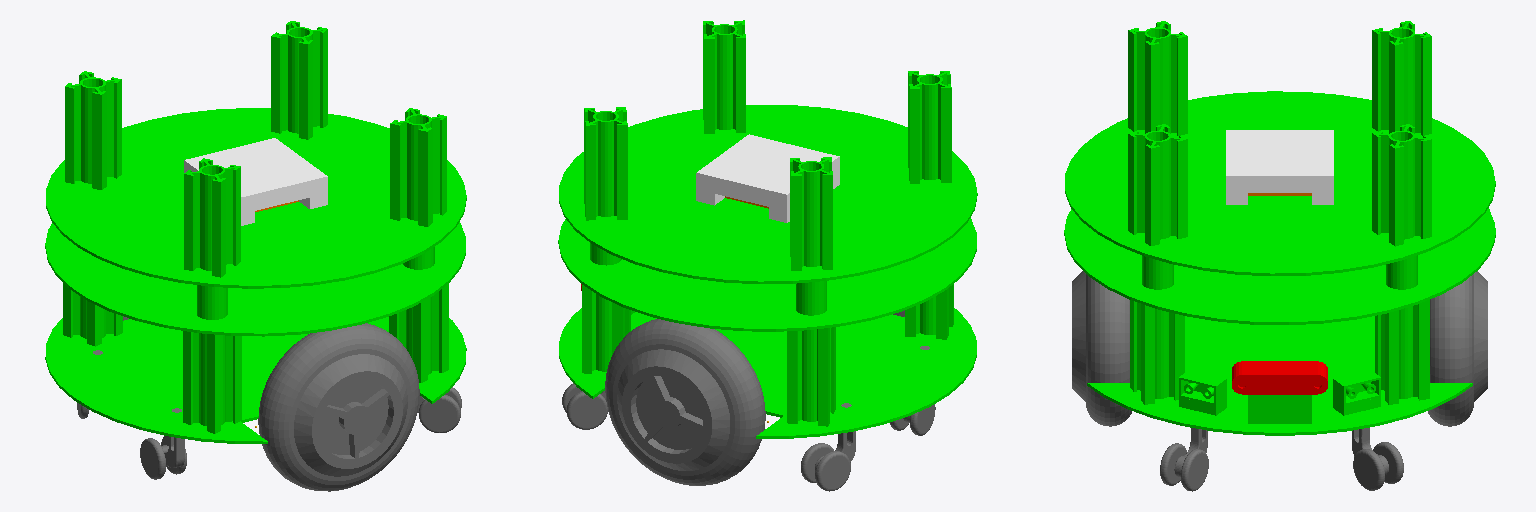
robot.urdf — jason_robot:
<?xml version="1.0" encoding="utf-8"?>
<robot name="jason_robot">

  <!-- base_footprint:to aviod the robot model drop into groud -->
  <link name="base_footprint_link"> 
    <visual>
      <origin rpy = "0.0 0.0 0.0" xyz="0.0 0.0 0.0"/>
      <geometry>
        <sphere radius="0.001"/>
      </geometry>
    </visual>  
  </link>
  <joint name="base_footprint_joint" type="fixed">
    <parent link="base_footprint_link"/>
    <child link="base_link"/>
    <origin xyz = "0.0 0.0 0.0" rpy = "0.0 0.0 0.0"/>
  </joint>

                                        <!-- body -->
  <!-- base -->
  <link name="base_link">
    <inertial>
      <origin xyz="0.00000000 0.10108756 0.00623713" rpy="0 0 0" />
      <mass value="1.82483140" />
      <inertia ixx="0.03024727" ixy="0.00000000" ixz="0.00000000" 
               iyy="0.03975910" iyz="-0.00096624" izz="0.02932123"/>
    </inertial>
    <visual>
      <origin xyz="0 0 0" rpy="0 0 0"/>
      <geometry>
        <mesh filename="package://jason_description/meshes/base_link.STL"/>
      </geometry>
      <material name="green">
        <color rgba="0 1 0 1"/> <!-- Green color -->
      </material>
    </visual>
    <collision>
      <origin xyz="0 0 0" rpy="0 0 0" />
      <geometry>
        <mesh filename="package://jason_description/meshes/base_link.STL"/>
      </geometry>
    </collision>
  </link>

  <!-- leftwheel -->
  <link name="leftwheel_link">
    <inertial>
      <origin xyz="0.025015 1.5613E-17 3.3827E-17" rpy="0 0 0"/>
      <mass value="0.97002"/>
      <inertia ixx="0.0031479" ixy="-2.0133E-20" ixz="-3.4297E-20" 
               iyy="0.0017677" iyz="-1.0842E-19" izz="0.0017677"/>
    </inertial>
    <visual>
      <origin xyz="0 0 0" rpy="0 0 0"/>
      <geometry>
        <mesh filename="package://jason_description/meshes/leftwheel.STL"/>
      </geometry>
      <material name="Grey">
        <color rgba="0.5 0.5 0.5 1"/>
      </material>
    </visual>
    <collision>
      <origin xyz="0 0 0" rpy="0 0 0"/>
      <geometry>
        <mesh filename="package://jason_description/meshes/leftwheel.STL"/>
      </geometry>
    </collision>
  </link>
  <joint name="leftwheel_joint" type="continuous">
    <origin xyz="0 0.135 0.085" rpy="1.9846 0 1.5708"/>
    <parent link="base_link"/>
    <child link="leftwheel_link"/>
    <axis xyz="1 0 0"/>
    <limit effort="100" velocity="100"/>
  </joint>
  <transmission name="leftwheel_joint_trans">
    <type>transmission_interface/SimpleTransmission</type>
    <joint name="leftwheel_joint">
        <hardwareInterface>hardware_interface/VelocityJointInterface</hardwareInterface>
    </joint>
    <actuator name="leftwheel_joint_motor">
        <hardwareInterface>hardware_interface/VelocityJointInterface</hardwareInterface>
        <mechanicalReduction>1</mechanicalReduction>
    </actuator>
</transmission>

  <!-- rightwheel -->
  <link name="rightwheel_link">
    <inertial>
      <origin xyz="0.0250147602908531 5.20417042793042E-18 0" rpy="0 0 0" />
      <mass value="0.970024552759726" />
      <inertia ixx="0.0031479187861595" ixy="5.18498633207202E-19" ixz="-4.35193244517078E-19" 
               iyy="0.00176772418850793" iyz="1.62630325872826E-19" izz="0.00176772418850793" />
    </inertial>
    <visual>
      <origin xyz="0 0 0" rpy="0 0 0" />
      <geometry>
        <mesh filename="package://jason_description/meshes/rightwheel.STL" />
      </geometry>
      <material name="Grey">
        <color rgba="0.5 0.5 0.5 1" />
      </material>
    </visual>
    <collision>
      <origin xyz="0 0 0" rpy="0 0 0" />
      <geometry>
        <mesh filename="package://jason_description/meshes/rightwheel.STL" />
      </geometry>
    </collision>
  </link>
  <joint name="rightwheel_joint" type="continuous">
    <origin xyz="0 -0.135 0.085" rpy="0.5198 0 -1.5708" />
    <parent link="base_link" />
    <child link="rightwheel_link" />
    <axis xyz="-1 0 0" />
    <limit effort="100" velocity="100" />
  </joint>
  <transmission name="rightwheel_joint_trans">
  <type>transmission_interface/SimpleTransmission</type>
  <joint name="rightwheel_joint">
      <hardwareInterface>hardware_interface/VelocityJointInterface</hardwareInterface>
  </joint>
  <actuator name="rightwheel_joint_motor">
      <hardwareInterface>hardware_interface/VelocityJointInterface</hardwareInterface>
      <mechanicalReduction>1</mechanicalReduction>
  </actuator>
</transmission>

  <!-- casterhandle1 -->
  <link name="casterhandle1_link">
    <inertial>
      <origin xyz="0 0.0297669849189359 -0.00695284912191863" rpy="0 0 0" />
      <mass value="0.0107364974282701" />
      <inertia ixx="5.80576146335529E-06" ixy="-2.43521972335611E-21" ixz="-1.48230765769503E-21"
               iyy="1.45396246086487E-06" iyz="-1.41313210015193E-06" izz="4.55928007631684E-06" />
    </inertial>
    <visual>
      <origin xyz="0 0 0" rpy="0 0 0" />
      <geometry>
        <mesh filename="package://jason_description/meshes/casterhandle1.STL" />
      </geometry>
      <material name="Grey">
        <color rgba="0.5 0.5 0.5 1" />
      </material>
    </visual>
    <collision>
      <origin xyz="0 0 0" rpy="0 0 0" />
      <geometry>
        <mesh filename="package://jason_description/meshes/casterhandle1.STL" />
      </geometry>
    </collision>
  </link>
  <joint name="casterhandle1_joint" type="continuous">
    <origin xyz="0.1299 -0.075 0.01" rpy="1.5708 0 -2.1443" />
    <parent link="base_link" />
    <child link="casterhandle1_link" />
    <axis xyz="0 -1 0" />
    <limit effort="100" velocity="100" />
  </joint>

  <!-- caster1 -->
  <link name="caster1_link">
    <inertial>
      <origin xyz="0 0 0" rpy="0 0 0" />
      <mass value="0.0203459824312811" />
      <inertia ixx="3.68448896895517E-06" ixy="2.38228016415272E-22" ixz="2.01170324972896E-21"
               iyy="4.49587566651826E-06" iyz="-1.05879118406788E-22" izz="4.49587566651827E-06" />
    </inertial>
    <visual>
      <origin xyz="0 0 0" rpy="0 0 0" />
      <geometry>
        <mesh filename="package://jason_description/meshes/caster1.STL" />
      </geometry>
      <material name="Grey">
        <color rgba="0.5 0.5 0.5 1" />
      </material>
    </visual>
    <collision>
      <origin xyz="0 0 0" rpy="0 0 0" />
      <geometry>
        <mesh filename="package://jason_description/meshes/caster1.STL" />
      </geometry>
    </collision>
  </link>
  <joint name="caster1_joint" type="continuous">
    <origin xyz="0 0.01 -0.025" rpy="-0.21648 0 -3.1416" />
    <parent link="casterhandle1_link" />
    <child link="caster1_link" />
    <axis xyz="1 0 0" />
    <limit effort="100" velocity="100" />
  </joint>

  <!-- casterhandle2 -->
  <link name="casterhandle2_link">
    <inertial>
      <origin xyz="2.08166817117217E-17 0.0297669849189359 -0.00695284912191868" rpy="0 0 0" />
      <mass value="0.0107364974282701" />
      <inertia ixx="5.80576146335528E-06" ixy="-5.29395592033938E-22" ixz="-1.27054942088145E-21"
               iyy="1.45396246086487E-06" iyz="-1.41313210015192E-06" izz="4.55928007631684E-06" />
    </inertial>
    <visual>
      <origin xyz="0 0 0" rpy="0 0 0" />
      <geometry>
        <mesh filename="package://jason_description/meshes/casterhandle2.STL" />
      </geometry>
      <material name="Grey">
        <color rgba="0.5 0.5 0.5 1" />
      </material>
    </visual>
    <collision>
      <origin xyz="0 0 0" rpy="0 0 0" />
      <geometry>
        <mesh filename="package://jason_description/meshes/casterhandle2.STL" />
      </geometry>
    </collision>
  </link>
  <joint name="casterhandle2_joint" type="continuous">
    <origin xyz="0.1299 0.075 0.01" rpy="1.5708 0 -0.85675" />
    <parent link="base_link" />
    <child link="casterhandle2_link" />
    <axis xyz="0 -1 0" />
    <limit effort="100" velocity="100" />
  </joint>

  <!-- caster2 -->
  <link name="caster2_link">
    <inertial>
      <origin xyz="5.55111512312578E-17 0 0" rpy="0 0 0" />
      <mass value="0.0203459824312811" />
      <inertia ixx="3.68448896895516E-06" ixy="-1.05879118406788E-22" ixz="-2.64697796016969E-23" 
               iyy="4.49587566651826E-06" iyz="-1.58818677610181E-22" izz="4.49587566651826E-06" />
    </inertial>
    <visual>
      <origin xyz="0 0 0" rpy="0 0 0" />
      <geometry>
        <mesh filename="package://jason_description/meshes/caster2.STL" />
      </geometry>
      <material name="Grey">
        <color rgba="0.5 0.5 0.5 1" />
      </material>
    </visual>
    <collision>
      <origin xyz="0 0 0" rpy="0 0 0" />
      <geometry>
        <mesh filename="package://jason_description/meshes/caster2.STL" />
      </geometry>
    </collision>
  </link>
  <joint name="caster2_joint" type="continuous">
    <origin xyz="0 0.01 -0.025" rpy="-1.4513 0 0" />
    <parent link="casterhandle2_link" />
    <child link="caster2_link" />
    <axis xyz="1 0 0" />
    <limit effort="100" velocity="100" />
  </joint>

  <!-- casterhandle3 -->
  <link name="casterhandle3_link">
    <inertial>
      <origin xyz="0 0.0297669849189359 -0.00695284912191872" rpy="0 0 0" />
      <mass value="0.0107364974282701" />
      <inertia ixx="5.80576146335528E-06" ixy="-3.17637355220363E-22" ixz="-3.17637355220363E-22"
               iyy="1.45396246086487E-06" iyz="-1.41313210015192E-06" izz="4.55928007631684E-06" />
    </inertial>
    <visual>
      <origin xyz="0 0 0" rpy="0 0 0" />
      <geometry>
        <mesh filename="package://jason_description/meshes/casterhandle3.STL" />
      </geometry>
      <material name="Grey">
        <color rgba="0.5 0.5 0.5 1" />
      </material>
    </visual>
    <collision>
      <origin xyz="0 0 0" rpy="0 0 0" />
      <geometry>
        <mesh filename="package://jason_description/meshes/casterhandle3.STL" />
      </geometry>
    </collision>
  </link>
  <joint name="casterhandle3_joint" type="continuous">
    <origin xyz="-0.1299 0.075 0.01" rpy="1.5708 0 -0.39591" />
    <parent link="base_link" />
    <child link="casterhandle3_link" />
    <axis xyz="0 -1 0" />
    <limit effort="100" velocity="100" />
  </joint>

  <!-- caster3 -->
  <link name="caster3_link">
    <inertial>
      <origin xyz="1.38777878078145E-16 0 -6.93889390390723E-18" rpy="0 0 0" />
      <mass value="0.0203459824312811" />
      <inertia ixx="3.68448896895516E-06" ixy="-1.58818677610181E-22" ixz="1.27054942088145E-21"
               iyy="4.49587566651827E-06" iyz="-1.32348898008484E-22" izz="4.49587566651827E-06" />
    </inertial>
    <visual>
      <origin xyz="0 0 0" rpy="0 0 0" />
      <geometry>
        <mesh filename="package://jason_description/meshes/caster3.STL" />
      </geometry>
      <material name="Grey">
        <color rgba="0.5 0.5 0.5 1" />
      </material>
    </visual>
    <collision>
      <origin xyz="0 0 0" rpy="0 0 0" />
      <geometry>
        <mesh filename="package://jason_description/meshes/caster3.STL" />
      </geometry>
    </collision>
  </link>
  <joint name="caster3_joint" type="continuous">
    <origin xyz="0 0.01 -0.025" rpy="0.53778 0 0" />
    <parent link="casterhandle3_link" />
    <child link="caster3_link" />
    <axis xyz="1 0 0" />
    <limit effort="100" velocity="100" />
  </joint>

  <!-- casterhandle4 -->
  <link name="casterhandle4_link">
    <inertial>
      <origin xyz="2.77555756156289E-17 0.0297669849189359 -0.00695284912191868" rpy="0 0 0" />
      <mass value="0.0107364974282701" />
      <inertia ixx="5.80576146335528E-06" ixy="6.37425380033363E-21" ixz="5.84982129197501E-21"
               iyy="1.45396246086487E-06" iyz="-1.41313210015192E-06" izz="4.55928007631684E-06" />
    </inertial>
    <visual>
      <origin xyz="0 0 0" rpy="0 0 0" />
      <geometry>
        <mesh filename="package://jason_description/meshes/casterhandle4.STL" />
      </geometry>
      <material name="Grey">
        <color rgba="0.5 0.5 0.5 1" />
      </material>
    </visual>
    <collision>
      <origin xyz="0 0 0" rpy="0 0 0" />
      <geometry>
        <mesh filename="package://jason_description/meshes/casterhandle4.STL" />
      </geometry>
    </collision>
  </link>
  <joint name="casterhandle4_joint" type="continuous">
    <origin xyz="-0.1299 -0.075 0.01" rpy="1.5708 0 0.0055428" />
    <parent link="base_link" />
    <child link="casterhandle4_link" />
    <axis xyz="0 -1 0" />
    <limit effort="100" velocity="100" />
  </joint>

  <!-- caster4 -->
  <link name="caster4_link">
    <inertial>
      <origin xyz="5.55111512312578E-17 6.93889390390723E-18 -1.38777878078145E-17" rpy="0 0 0" />
      <mass value="0.020345982431281" />
      <inertia ixx="3.68448896895516E-06" ixy="-1.61920604907255E-21" ixz="-3.8513529320469E-21"
               iyy="4.49587566651826E-06" iyz="-1.83874818469722E-22" izz="4.49587566651826E-06" />
    </inertial>
    <visual>
      <origin xyz="0 0 0" rpy="0 0 0" />
      <geometry>
        <mesh filename="package://jason_description/meshes/caster4.STL" />
      </geometry>
      <material name="Grey">
        <color rgba="0.5 0.5 0.5 1" />
      </material>
    </visual>
    <collision>
      <origin xyz="0 0 0" rpy="0 0 0" />
      <geometry>
        <mesh filename="package://jason_description/meshes/caster4.STL" />
      </geometry>
    </collision>
  </link>
  <joint name="caster4_joint" type="continuous">
    <origin xyz="0 0.01 -0.025" rpy="0.20426 0 0" />
    <parent link="casterhandle4_link" />
    <child link="caster4_link" />
    <axis xyz="1 0 0" />
    <limit effort="100" velocity="100" />
  </joint>

  <!-- imu -->
  <link name="imu_link">
    <inertial>
      <origin xyz="0 0 0" rpy="0 0 0" />
      <mass value="0" />
      <inertia ixx="0" ixy="0" ixz="0"
               iyy="0" iyz="0" izz="0" />
    </inertial>
    <visual>
      <origin xyz="0 0 0" rpy="0 0 0" />
      <geometry>
        <mesh filename="package://jason_description/meshes/imu.STL" />
      </geometry>
      <material name="White">
        <color rgba="1 1 1 1" />
      </material>
    </visual>
    <collision>
      <origin xyz="0 0 0" rpy="0 0 0" />
      <geometry>
        <mesh filename="package://jason_description/meshes/imu.STL" />
      </geometry>
    </collision>
  </link>
  <joint name="imu_joint" type="fixed">
    <origin xyz="0 0 0.241" rpy="0 0 1.5708" />
    <parent link="base_link" />
    <child link="imu_link" />
    <axis xyz="0 0 0" />
  </joint>  

                                        <!-- sensors -->
  <!-- lidar -->
  <link name="lidar_link">
    <inertial>
      <origin xyz="4.09310872603549E-16 3.99729920717014E-16 0.0153948317043902" rpy="0 0 0" />
      <mass value="0.0840106255359657" />
      <inertia ixx="2.77081844063037E-05" ixy="1.41172157875717E-21" ixz="2.29728265499214E-22" 
               iyy="2.77081844063037E-05" iyz="3.63907857867545E-22" izz="3.448474197593E-05" />
    </inertial>
    <visual>
      <origin xyz="0 0 0" rpy="3.14159 0 0" />
      <geometry>
        <mesh filename="package://jason_description/meshes/lidar.STL" />
      </geometry>
      <material name="Orange">
        <color rgba="1.0 0.5 0 1" />
      </material>
    </visual>
    <collision>
      <origin xyz="0 0 0" rpy="0 0 0" />
      <geometry>
        <mesh filename="package://jason_description/meshes/lidar.STL" />
      </geometry>
    </collision>
  </link>
  <joint name="lidar_joint" type="fixed">
    <origin xyz="0 0 0.248" rpy="0  0  0" />
    <parent link="base_link" />
    <child link="lidar_link" />
    <axis xyz="0 0 0" />
  </joint>

                                          <!-- camera -->
  <!-- camera -->
  <link name="depth_camera_link">
    <inertial>
      <origin xyz="0.00885919804493583 0.011427228102544 0.0149191163471901" rpy="0 0 0" />
      <mass value="0.0503377869026273" />
      <inertia ixx="5.40435557385604E-06" ixy="-2.01817407752424E-21" ixz="2.43872238839389E-22"
               iyy="3.51518348354752E-05" iyz="-3.17629361829215E-10" izz="3.29633328279795E-05" />
    </inertial>
    <visual>
      <origin xyz="0 0 0" rpy="1.5708 0 1.5708" />
      <geometry>
        <mesh filename="package://jason_description/meshes/depth_camera.STL" />
      </geometry>
      <material name="Red">
        <color rgba="1 0 0 1" />
      </material>
    </visual>
    <collision>
      <origin xyz="0 0 0" rpy="0 0 0" />
      <geometry>
        <mesh filename="package://jason_description/meshes/depth_camera.STL" />
      </geometry>
    </collision>
  </link>
  <joint name="depth_camera_joint" type="fixed">
    <origin xyz="0.15 -0.0088592 0.10665" rpy="0 0 0" />
    <parent link="base_link" />
    <child link="depth_camera_link" />
    <axis xyz="0 0 0" />
  </joint>

                                        <!-- sonars -->
  <!-- leftsonar -->
  <link name="leftsonar_link">
    <inertial>
      <origin xyz="0.00792027808007231 0.000168686050255766 -3.40353925598613E-11" rpy="0 0 0" />
      <mass value="0.00838075367254196" />
      <inertia ixx="1.66380504569355E-06" ixy="-2.94013297145479E-09" ixz="2.87516389806945E-15"
               iyy="1.63719750563248E-06" iyz="-9.53790082675265E-13" izz="6.5615682924952E-07" />
    </inertial>
    <visual>
      <origin xyz="0 0 0" rpy="0 0 0" />
      <geometry>
        <mesh filename="package://jason_description/meshes/sonar.STL" />
      </geometry>
      <material name="Green">
        <color rgba="0 1 0 1" />
      </material>
    </visual>
    <collision>
      <origin xyz="0 0 0" rpy="0 0 0" />
      <geometry>
        <mesh filename="package://jason_description/meshes/sonar.STL" />
      </geometry>
    </collision>
  </link>
  <joint
    name="leftsonar_joint"
    type="fixed">
    <origin xyz="0.1349 0.06634 0.098" rpy="1.5708 0 0.5236" />
    <parent link="base_link" />
    <child link="leftsonar_link" />
    <axis xyz="0 0 0" />
  </joint>

  <!-- right_sonar -->
  <link name="rightsonar_link">
    <inertial>
      <origin xyz="0.00792027808007228 0.000168686050255773 -3.40354064376491E-11" rpy="0 0 0" />
      <mass value="0.00838075367254196" />
      <inertia ixx="1.66380504569355E-06" ixy="-2.94013297145484E-09" ixz="2.87516246870135E-15"
               iyy="1.63719750563248E-06" iyz="-9.53790082856004E-13" izz="6.5615682924952E-07" />
    </inertial>
    <visual>
      <origin xyz="0 0 0" rpy="0 0 0" />
      <geometry>
        <mesh filename="package://jason_description/meshes/sonar.STL" />
      </geometry>
      <material name="Green">
        <color rgba="0 1 0 1" />
      </material>
    </visual>
    <collision>
      <origin xyz="0 0 0" rpy="0 0 0" />
      <geometry>
        <mesh filename="package://jason_description/meshes/sonar.STL" />
      </geometry>
    </collision>
  </link>
  <joint name="rightsonar_joint" type="fixed">
    <origin xyz="0.1349 -0.06634 0.098" rpy="1.5708 0 -0.5236" />
    <parent link="base_link" />
    <child link="rightsonar_link" />
    <axis xyz="0 0 0" />
  </joint>

                                        <!-- gazebo plugin for WHEELS -->
  <gazebo>
    <plugin name="differential_drive_controller" filename="libgazebo_ros_diff_drive.so">
      <updateRate>10</updateRate>
      <leftJoint>leftwheel_joint</leftJoint>
      <rightJoint>rightwheel_joint</rightJoint>
      <!-- The distance from the center of one wheel to the other, in meters, defaults to 0.34 m -->
      <wheelSeparation>0.315</wheelSeparation>
      <wheelDiameter>0.17</wheelDiameter>
      <!-- Wheel acceleration, in rad/s^2, defaults to 0.0 rad/s^2 -->
      <wheelAcceleration>2.0</wheelAcceleration>
      <!-- Maximum torque which the wheels can produce, in Nm, defaults to 5 Nm -->
      <wheelTorque>40</wheelTorque>
      <commandTopic>cmd_vel_a</commandTopic>
      <odometryTopic>odom</odometryTopic>
      <odometryFrame>odom</odometryFrame>
      <robotBaseFrame>base_footprint_link</robotBaseFrame>
      <!-- Odometry source, 0 for ENCODER, 1 for WORLD, defaults to WORLD -->
      <odometrySource>1</odometrySource>
      <publishWheelTF>true</publishWheelTF>
      <publishOdom>true</publishOdom>
      <publishWheelJointState>true</publishWheelJointState>
      <!-- Set to true to swap right and left wheels, defaults to true -->
      <legacyMode>false</legacyMode>
    </plugin>
  </gazebo>

                                        <!-- gazebo plugin for LIDAR -->
  <gazebo reference="lidar_link">
    <sensor type="ray" name="head_hokuyo_sensor">
      <pose>0 0 -0.03 0 0 0</pose>
      <visualize>true</visualize>
      <update_rate>15</update_rate> 
      <ray>
        <scan>
          <horizontal>
            <!-- 水平角分辨率LDS-E300-E: 0.5°@25HZ -->
            <samples>720</samples>
            <resolution>1</resolution>
            <min_angle>-3.1415926535</min_angle>
            <!-- <min_angle>-1.570796</min_angle> -->
            <max_angle>3.1415926535</max_angle>
            <!-- <max_angle>1.570796</max_angle> -->
          </horizontal>
        </scan>
        <range>
          <!-- 0.1-25m（90%） -->
          <min>0.21</min>
          <max>25.0</max>
          <!-- 距离分辨率mm级 -->
          <resolution>0.01</resolution>
        </range>
        <noise>
          <type>gaussian</type>
          <!-- Noise parameters based on published spec for Hokuyo laser
                achieving "+-30mm" accuracy at range < 10m.  A mean of 0.0m and
                stddev of 0.01m will put 99.7% of samples within 0.03m of the true
                reading. -->
          <mean>0.0</mean>
          <stddev>0.01</stddev>
        </noise>
      </ray>
      <!-- GPU Laser -->
      <!-- <plugin name="gazebo_ros_head_hokuyo_controller" filename="libgazebo_ros_gpu_laser.so"> -->
        <plugin name="gazebo_ros_head_hokuyo_controller" filename="libgazebo_ros_laser.so">
        <topicName>/scan_a</topicName>
        <frameName>lidar_link</frameName>
      </plugin>
    </sensor>
  </gazebo>  

                                        <!-- gazebo plugin for IMU__LINK -->
<gazebo reference="imu_link">
  <gravity>true</gravity>
  <sensor name="imu_sensor" type="imu">
    <always_on>true</always_on>
    <update_rate>100</update_rate>
    <visualize>true</visualize>
    <topic>__default_topic__</topic>
    <plugin filename="libgazebo_ros_imu_sensor.so" name="imu_plugin">
      <topicName>imu/data</topicName>
      <bodyName>body_link</bodyName>
      <updateRateHZ>100.0</updateRateHZ>
      <gaussianNoise>0.0</gaussianNoise>
      <xyzOffset>0 0 0</xyzOffset>
      <rpyOffset>0 0 0</rpyOffset>
      <frameName>imu_link</frameName>
    </plugin>
    <pose>0 0 0 0 0 0</pose>
  </sensor>
</gazebo>

                                        <!-- gazebo plugin for color -->
  <!-- base_link颜色 -->
  <gazebo reference = "base_link">
    <material>Gazebo/Green</material>
  </gazebo>
  
  </robot>

--- Render facts (derived) ---
The picture shows the robot from 3 angles, left to right: view 1: azimuth 30°, elevation 25°; view 2: azimuth 150°, elevation 25°; view 3: azimuth 270°, elevation 25°; orthographic projection.
Robot: jason_robot — 17 links, 16 joints (10 continuous, 6 fixed); root link base_footprint_link; default pose: every joint at zero.
Visible links, largest first — view 1: base_link, rightwheel_link, imu_link, caster1_link, caster4_link, casterhandle4_link; view 2: base_link, leftwheel_link, imu_link, caster3_link, caster2_link, caster4_link; view 3: base_link, imu_link, rightwheel_link, leftwheel_link, depth_camera_link, caster2_link, caster1_link, leftsonar_link, rightsonar_link, casterhandle1_link.
Boxes of the visible links, <box> form: base_link: <box>45,21,466,443</box>; rightwheel_link: <box>258,323,419,491</box>; imu_link: <box>184,138,327,225</box>; caster1_link: <box>419,387,461,432</box>; caster4_link: <box>140,436,186,479</box>; casterhandle4_link: <box>161,408,184,467</box>; base_link: <box>558,20,977,438</box>; leftwheel_link: <box>605,319,765,485</box>; imu_link: <box>696,134,839,222</box>; caster3_link: <box>801,443,850,491</box>; caster2_link: <box>562,383,607,429</box>; caster4_link: <box>890,404,935,435</box>; base_link: <box>1064,21,1495,435</box>; imu_link: <box>1226,130,1333,204</box>; rightwheel_link: <box>1072,271,1131,426</box>; leftwheel_link: <box>1428,271,1487,426</box>; depth_camera_link: <box>1232,361,1327,394</box>; caster2_link: <box>1353,442,1403,490</box>; caster1_link: <box>1160,443,1208,491</box>; leftsonar_link: <box>1333,370,1380,405</box>; rightsonar_link: <box>1179,370,1226,405</box>; casterhandle1_link: <box>1174,428,1207,476</box>.
Bounding box of the posed robot: 0.4 × 0.4 × 0.342 m (x, y, z).
16 mesh visuals loaded from 15 distinct referenced files (15 binary STL).
